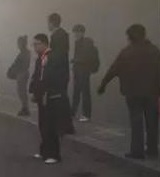person: (97, 23, 160, 161), (30, 32, 68, 166), (46, 12, 78, 137), (70, 23, 99, 122), (6, 34, 35, 118)
